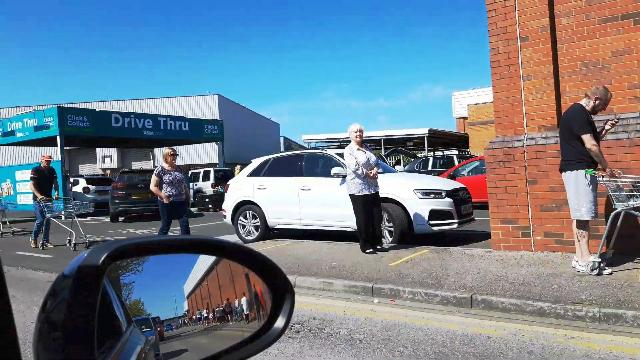berdiri: (548, 76, 620, 284), (339, 120, 386, 266)
